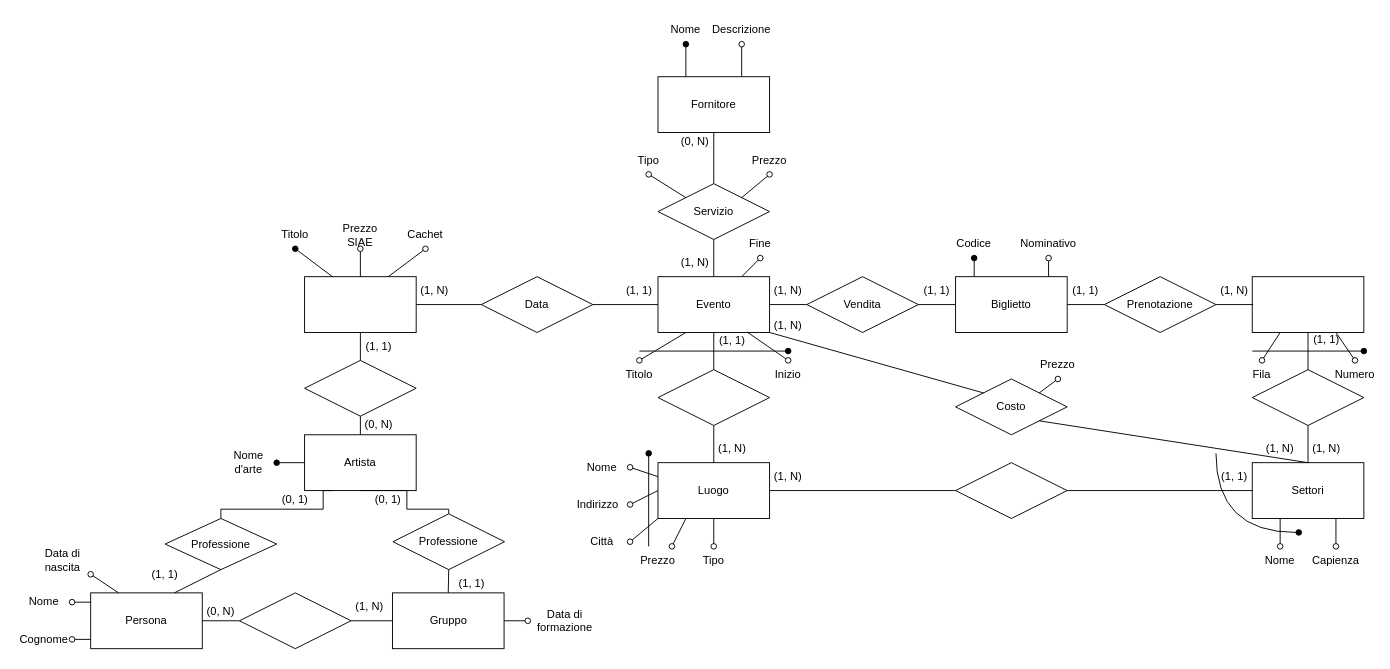
Image size: 1390x669. Some labels were removed from this diagram. The shapes that lost their labels are listed below. From the top down, each one's centre as x and y in pixels, then its label:
At [360,304]: "Spettacolo".
At [1307,304]: "Posto".
At [360,387]: "Esibizione".
At [713,397]: "Posizione".
At [1307,397]: "Piantina".
At [1011,490]: "Divisione".
At [295,620]: "Appartenenza".
